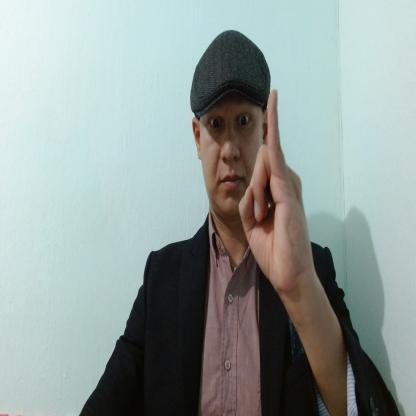I: (238, 86, 314, 294)
